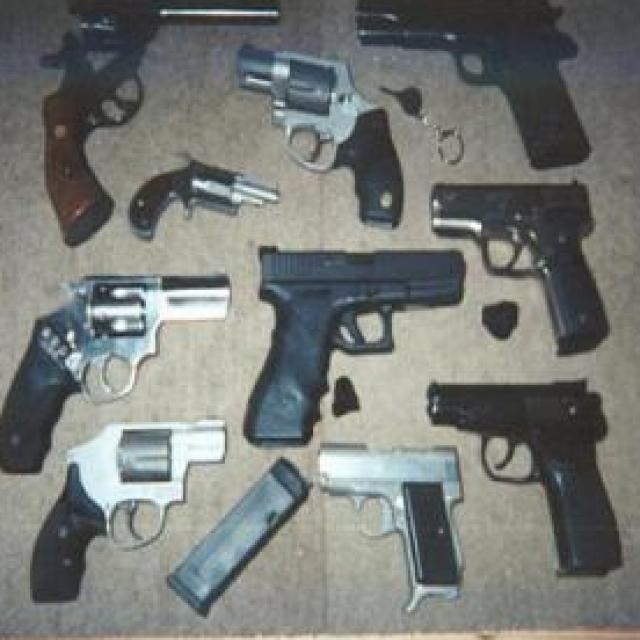pistol: (25, 0, 278, 248), (0, 276, 234, 475), (242, 248, 468, 445), (352, 0, 594, 172), (426, 378, 624, 575), (25, 417, 228, 602), (431, 178, 609, 360), (236, 42, 407, 230), (315, 443, 466, 610), (127, 151, 283, 242)
